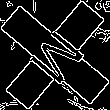M_SE: (21, 21, 89, 89)
